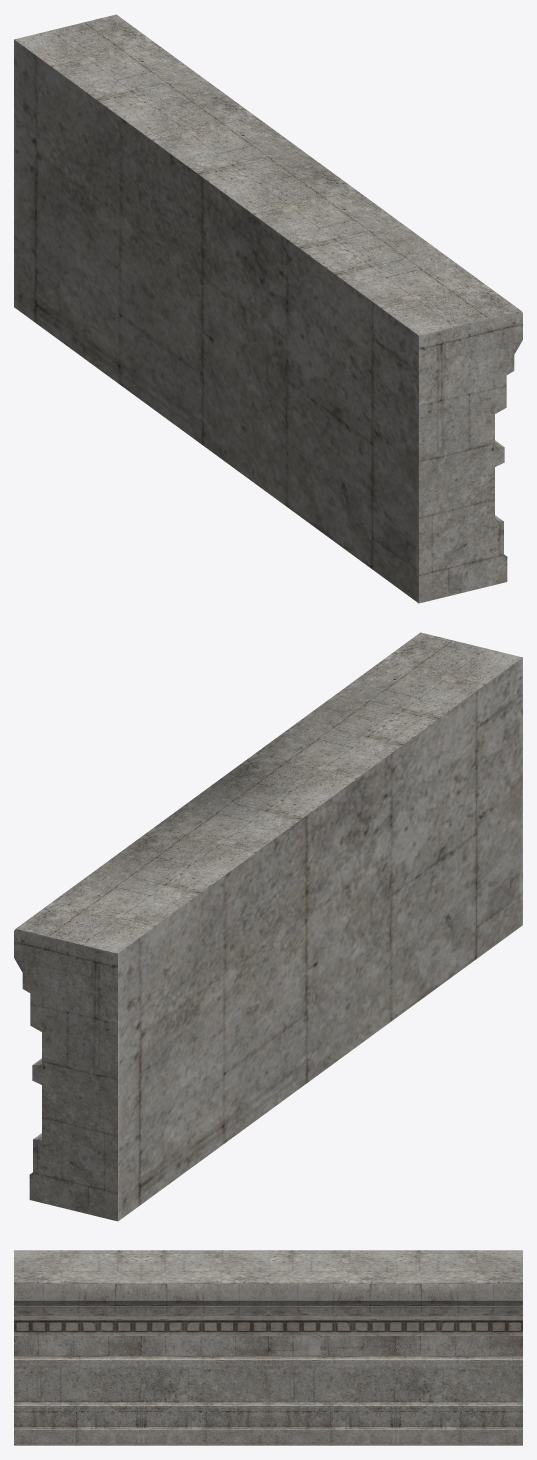
File: bg_lut_lucastle_castleborder02_sm_phs.FBX
The picture shows the model from 3 angles, top to bottom: view 1: azimuth 30°, elevation 25°; view 2: azimuth 150°, elevation 25°; view 3: azimuth 270°, elevation 25°; orthographic projection. The views are drawn at different scales.
Parts seen in each view (by area): view 1: bg_lut_lucastle_castleborder02_sm_phs; view 2: bg_lut_lucastle_castleborder02_sm_phs; view 3: bg_lut_lucastle_castleborder02_sm_phs.
Boxes of the visible parts, bbox=[...] form: bg_lut_lucastle_castleborder02_sm_phs: bbox=[14, 14, 522, 603]; bg_lut_lucastle_castleborder02_sm_phs: bbox=[14, 632, 522, 1221]; bg_lut_lucastle_castleborder02_sm_phs: bbox=[14, 1250, 522, 1445].
Bounding box in the file's own units: 76.01 × 187 × 512.
